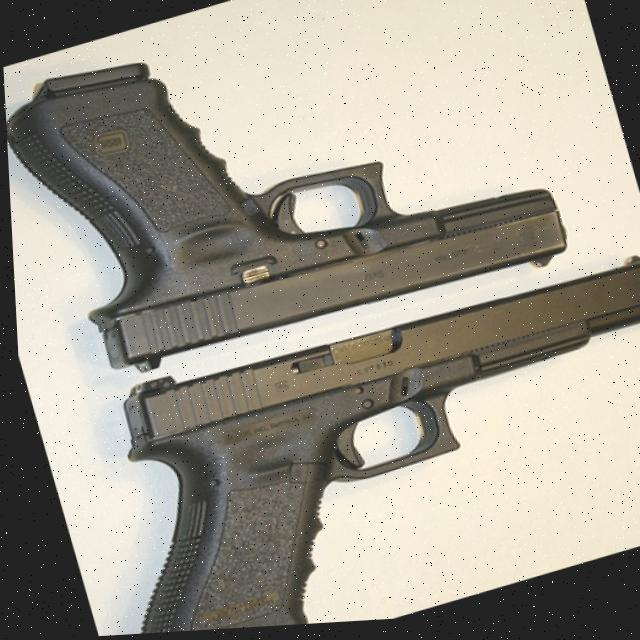pistol: (51, 237, 640, 638), (0, 0, 578, 406)
